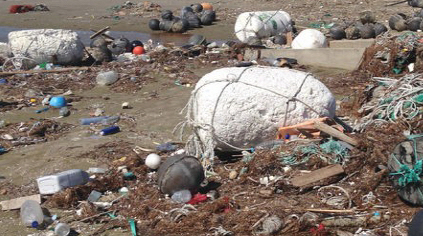buoy: (185, 64, 335, 156), (5, 26, 82, 69), (233, 8, 293, 46)
plasticbottle: (19, 197, 43, 226)
